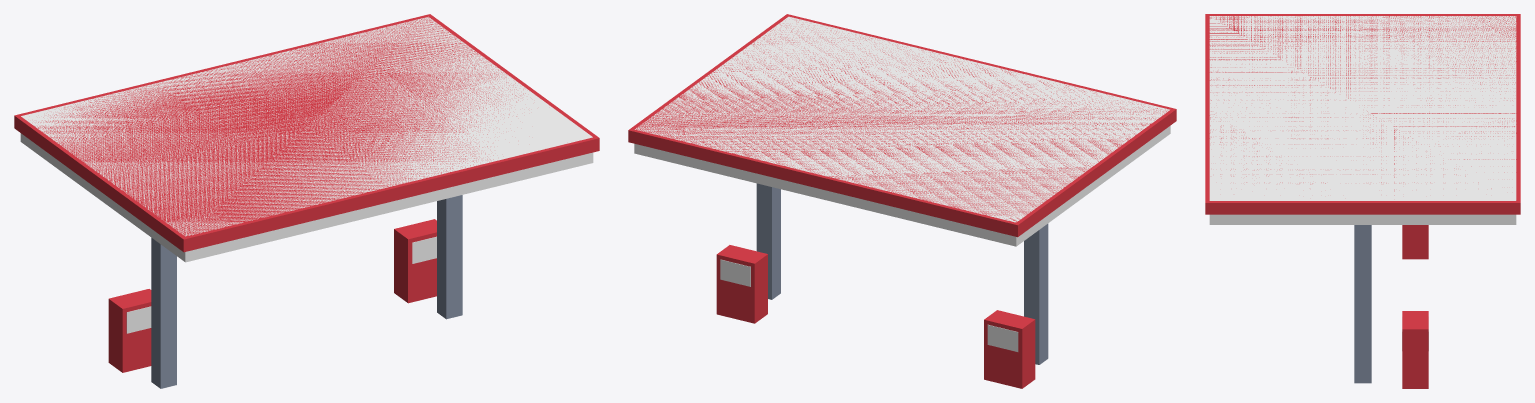
The model's file is canopy.glb.
The picture shows the model from 3 angles, left to right: view 1: azimuth 30°, elevation 25°; view 2: azimuth 150°, elevation 25°; view 3: azimuth 270°, elevation 25°; orthographic projection. The views are drawn at different scales.
Parts seen in each view (by area): view 1: canopy_red, canopy_white, canopy_metal; view 2: canopy_white, canopy_red, canopy_metal; view 3: canopy_white, canopy_red, canopy_metal.
Boxes of the visible parts, x1,y1,x2,y2 form: canopy_red: (14,14,599,372); canopy_white: (20,16,593,333); canopy_metal: (151,195,462,388); canopy_white: (634,16,1170,351); canopy_red: (628,14,1176,388); canopy_metal: (756,183,1048,364); canopy_white: (1209,16,1516,350); canopy_red: (1205,14,1520,388); canopy_metal: (1354,225,1371,383).
Size of the model in its own units: 10.2 by 5.2 by 7.2.
